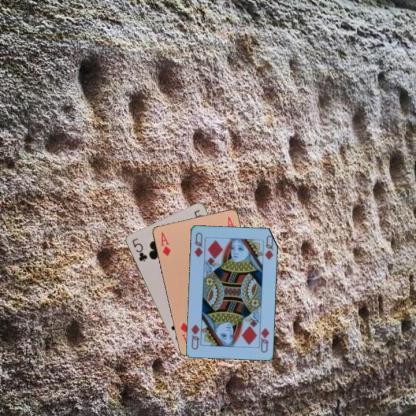5c: (130, 235, 148, 262)
Ad: (157, 229, 172, 257)
Qd: (256, 323, 270, 354), (192, 230, 204, 258)
